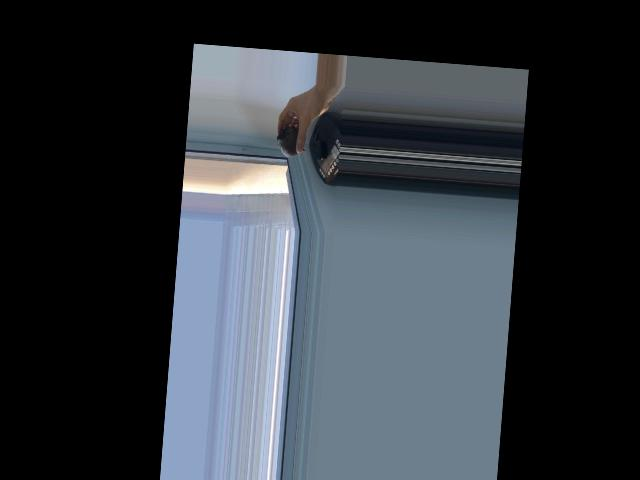beet: (275, 122, 308, 158)
